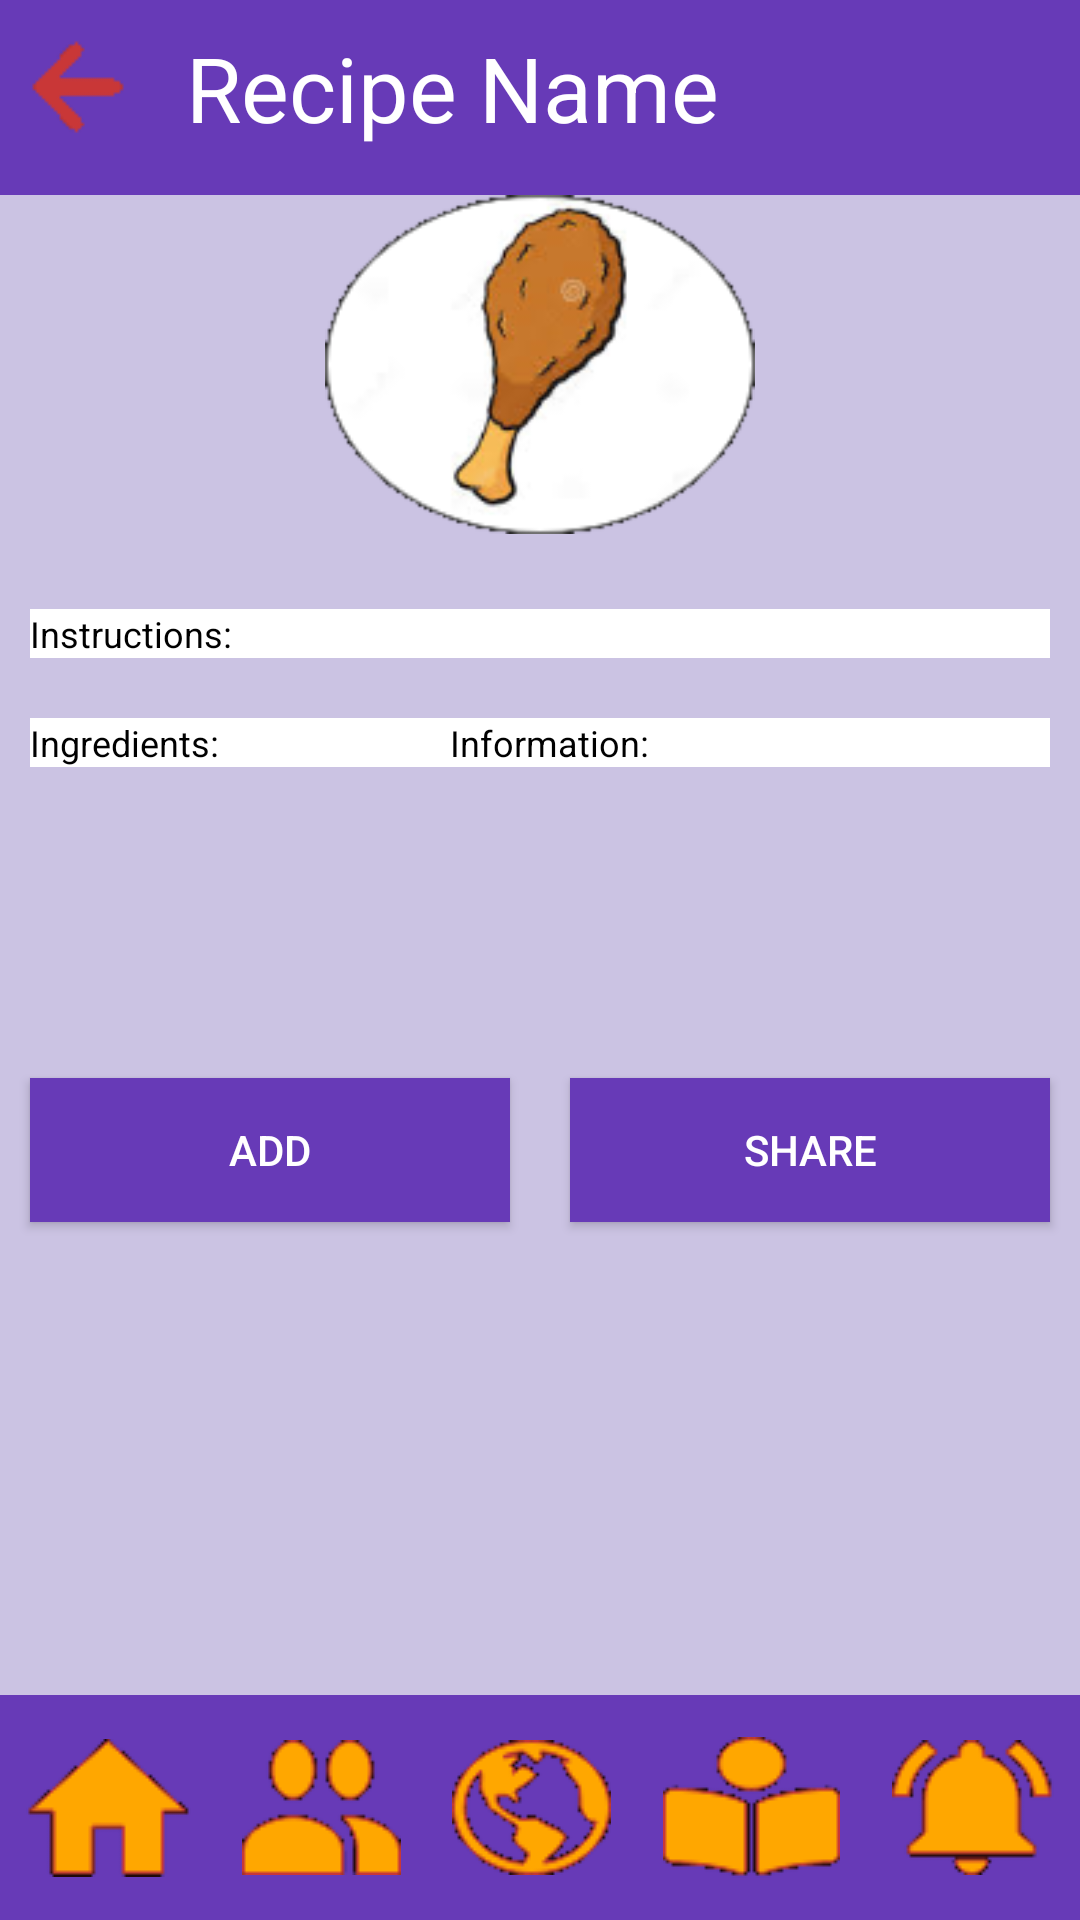

Icons on this 1080 × 1920 Android screen, each with the point to tap as (x=x, y=y):
cookbookicon: (x=751, y=1806)
exploreicon: (x=531, y=1807)
homeorange: (x=108, y=1808)
leftarrow: (x=78, y=87)
notification: (x=972, y=1807)
socialicon: (x=321, y=1807)
